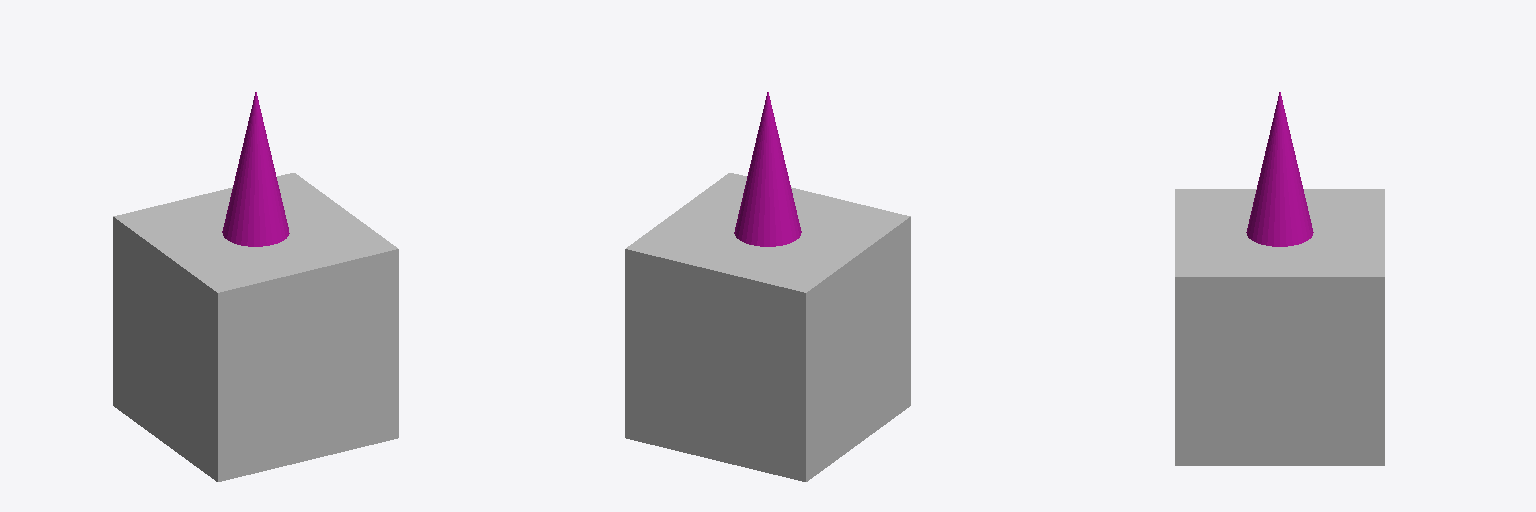
Rendered from magujo.obj.
The picture shows the model from 3 angles: view 1: azimuth 30°, elevation 25°; view 2: azimuth 150°, elevation 25°; view 3: azimuth 270°, elevation 25°; orthographic projection.
Visible parts, largest first — view 1: Cube, Cone; view 2: Cube, Cone; view 3: Cube, Cone.
Boxes of the visible parts, <box> form: Cube: <box>113,173,398,481</box>; Cone: <box>222,92,289,246</box>; Cube: <box>625,173,910,481</box>; Cone: <box>734,92,801,246</box>; Cube: <box>1175,189,1384,465</box>; Cone: <box>1246,92,1313,246</box>.
Bounding box in the file's own units: 28 × 49.11 × 28.